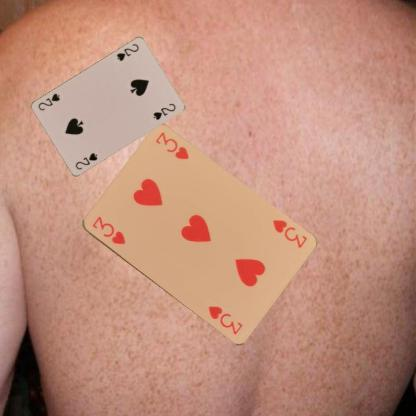2s: (73, 150, 99, 171), (114, 42, 140, 62)
3h: (270, 216, 308, 250), (89, 214, 127, 246)
